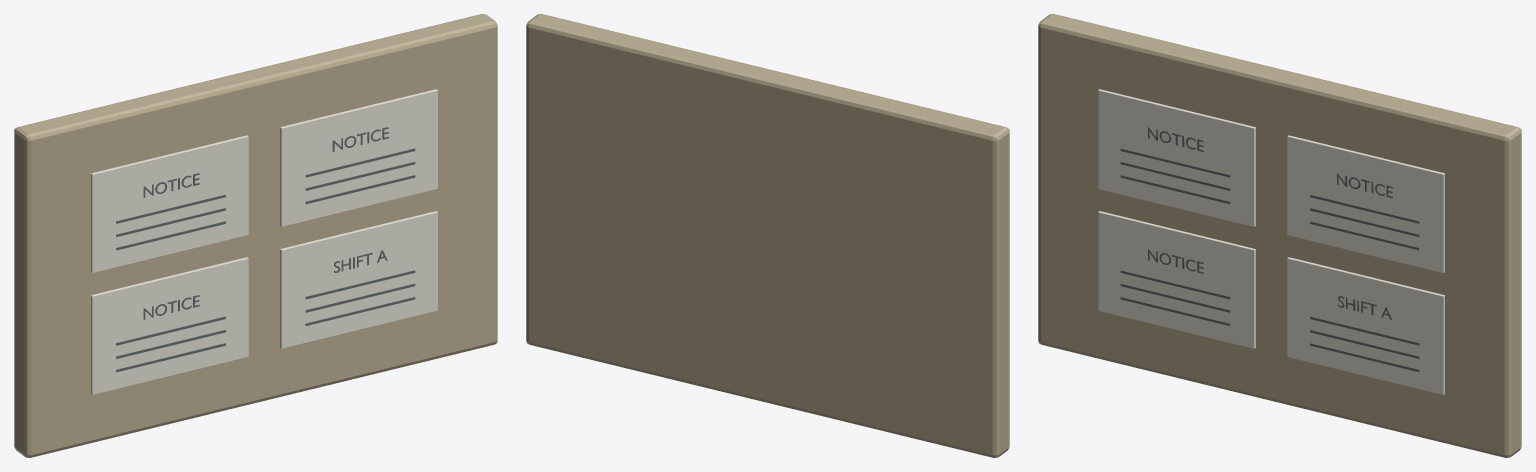
Rendered from F1_NoticeBoard.fbx.
3 renders of one model, left to right at view 1: azimuth 30°, elevation 25°; view 2: azimuth 150°, elevation 25°; view 3: azimuth 330°, elevation 25°, orthographic.
Parts seen in each view (by area): view 1: F1_NoticeBoard_LOD0; view 2: F1_NoticeBoard_LOD0; view 3: F1_NoticeBoard_LOD0.
Boxes of the visible parts, box(x1,y1,x2,y2) form: F1_NoticeBoard_LOD0: box(14, 14, 497, 457); F1_NoticeBoard_LOD0: box(526, 14, 1009, 457); F1_NoticeBoard_LOD0: box(1038, 14, 1521, 457).
Size of what is drawn, in the model's own units: 130 by 85 by 8.3.
